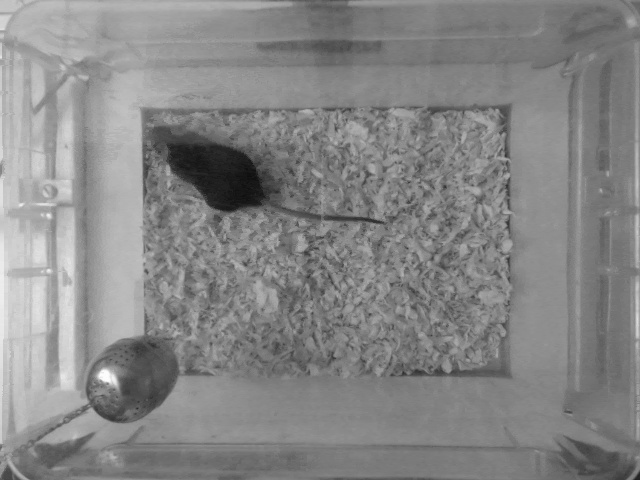mice: (142, 122, 389, 231)
